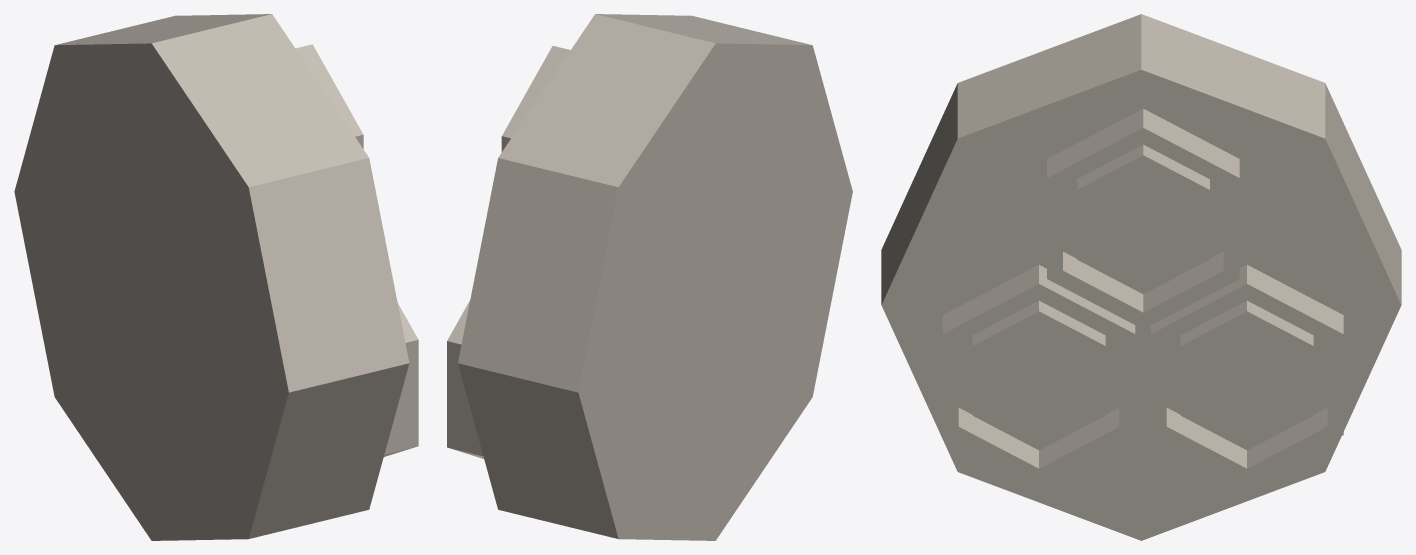
File: outlet_r_3.glb
3 views of the same model, side by side, from view 1: azimuth 30°, elevation 25°; view 2: azimuth 150°, elevation 25°; view 3: azimuth 270°, elevation 25° (orthographic). The views are drawn at different scales.
Visible parts, largest first — view 1: Cylinder.011; view 2: Cylinder.011; view 3: Cylinder.011.
Boxes of the visible parts, x1,y1,x2,y2 form: Cylinder.011: (14,14,418,540); Cylinder.011: (447,14,852,540); Cylinder.011: (881,14,1401,540).
Size of the model in its own units: 0.1118 by 0.328 by 0.328.
Materials: 1 (1 with a texture image).
